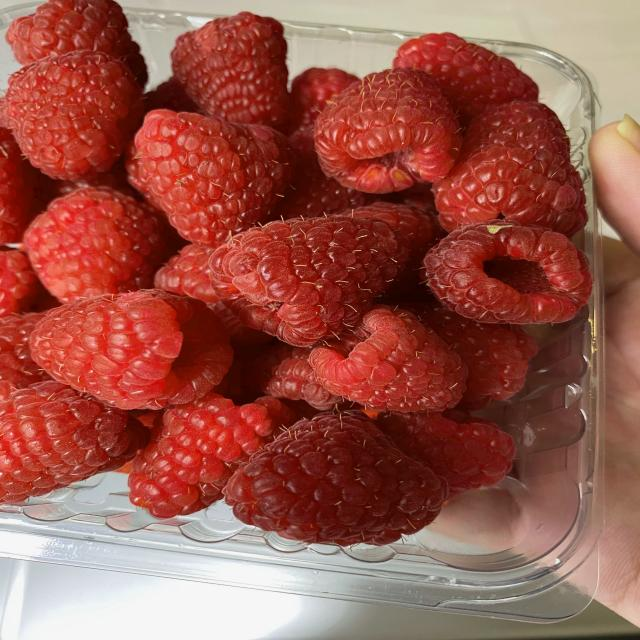Raspberry: (0, 7, 585, 577)
